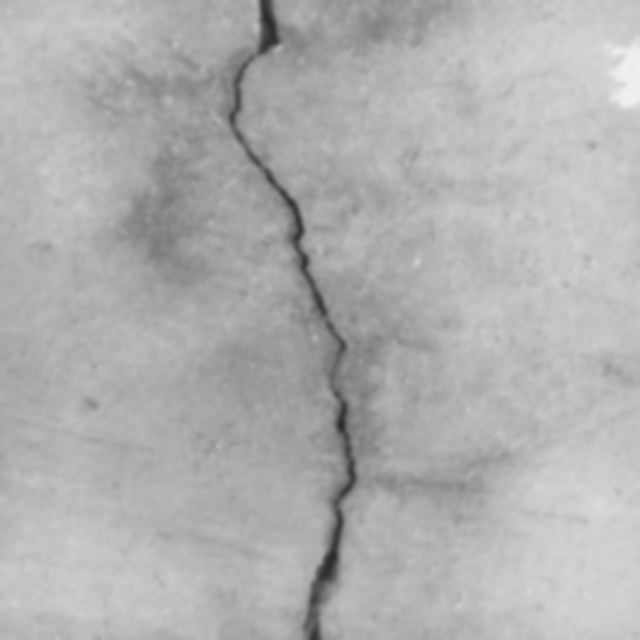SurfaceCrack: (197, 1, 391, 640)
